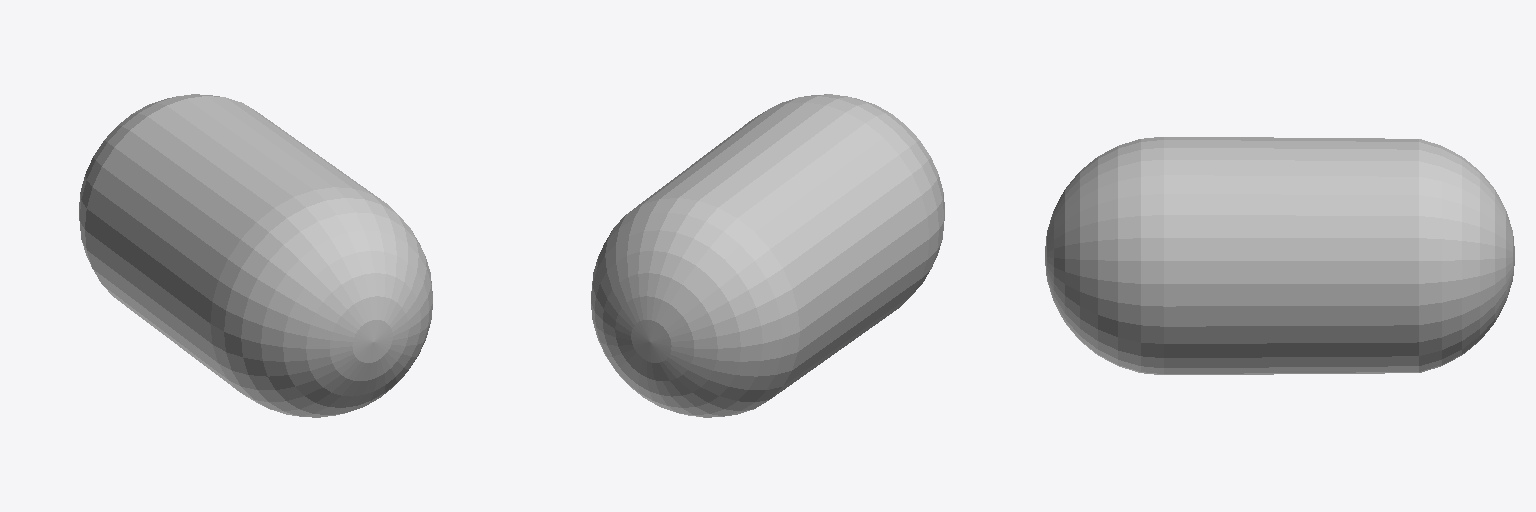
Rendered from salud.obj.
3 views of the same model, side by side, from view 1: azimuth 30°, elevation 25°; view 2: azimuth 150°, elevation 25°; view 3: azimuth 270°, elevation 25° (orthographic).
Parts seen in each view (by area): view 1: Sphere; view 2: Sphere; view 3: Sphere.
Boxes of the visible parts, <box> form: Sphere: <box>79,94,432,417</box>; Sphere: <box>591,94,944,417</box>; Sphere: <box>1045,137,1514,374</box>.
Bounding box in the file's own units: 2 × 2 × 3.94.